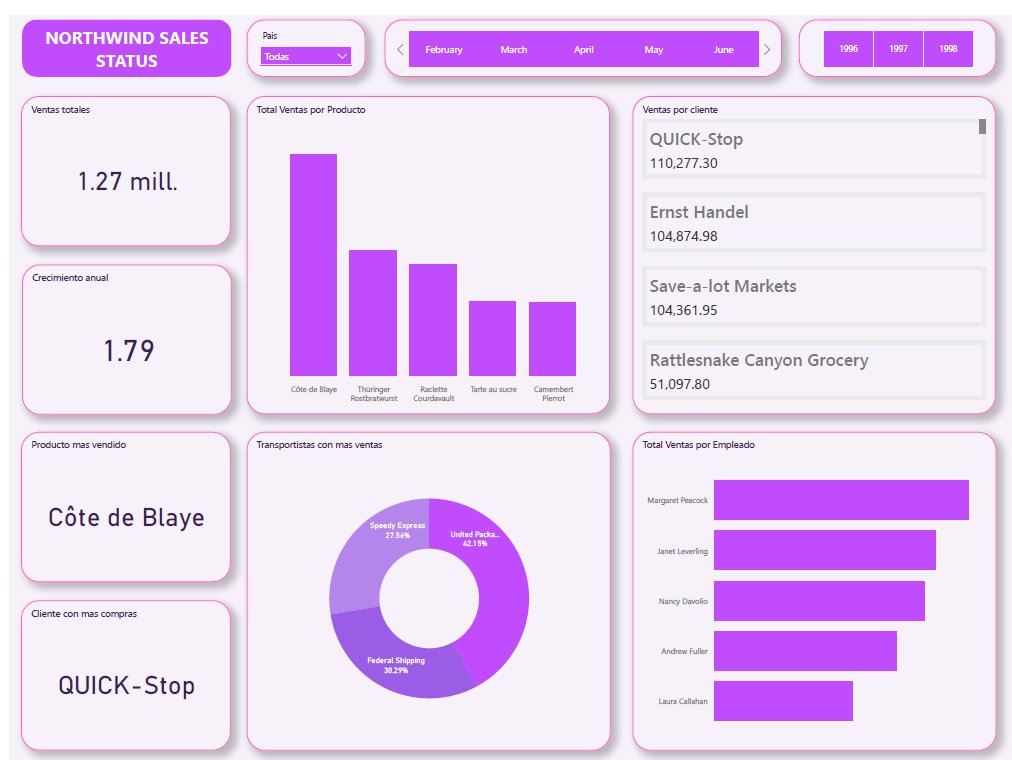

This screenshot's page, from the dashboard's own definition file:
{"tool":"powerbi","page":{"name":"Página 1","canvas":[1400,1499],"ordinal":0},"visuals":[{"type":"shape","box":[17.1,5.7,292.9,80],"z":7000},{"type":"card","title":"Ventas totales","fields":{"Values":["FactVentas.Total Ventas"]},"box":[15,113.3,293.3,210],"z":8000},{"type":"card","title":"Crecimiento anual","fields":{"Values":["FactVentas.YoY Growth"]},"box":[16.7,348.3,293.3,210],"z":9000},{"type":"card","title":"Cliente con mas compras","fields":{"Values":["FactVentas.TopCliente"]},"box":[15,818.3,293.3,210],"z":10000},{"type":"card","title":"Producto mas vendido","fields":{"Values":["FactVentas.TopProducto"]},"box":[15,583.3,293.3,210],"z":11000},{"type":"lineChart","title":"Ventas por Mes","fields":{"Y":["FactVentas.Total Ventas"],"Category":["DimTiempo.MesNombre"]},"box":[16.7,1048.3,1363.3,286.7],"z":12000},{"type":"clusteredColumnChart","fields":{"Category":["DimProducto.Producto"],"Y":["FactVentas.Total Ventas"]},"box":[331.7,113.3,508.3,445],"z":13000},{"type":"multiRowCard","title":"Ventas por cliente","fields":{"Values":["DimCliente.Cliente","FactVentas.Total Ventas"]},"box":[871.7,113.3,508,445],"z":14000},{"type":"barChart","fields":{"Category":["DimEmpleado.Empleado"],"Y":["FactVentas.Total Ventas"]},"box":[871.4,582.9,508.6,445.7],"z":15000},{"type":"donutChart","title":"Transportistas con mas ventas","fields":{"Category":["DimShipper.Transportista"],"Y":["FactVentas.Total Ventas"]},"box":[331.4,582.9,508.6,445.7],"z":16000},{"type":"slicer","fields":{"Values":["DimTiempo.Anio"]},"box":[1104.3,5.7,275.7,80],"z":17000},{"type":"slicer","fields":{"Values":["DimTiempo.MesNombre"]},"box":[524.3,5.7,555.7,80],"z":18000},{"type":"slicer","fields":{"Values":["DimCliente.Pais"]},"box":[331.4,5.7,165.7,80],"z":20000}]}

Visuals, with their boxes on the page's 1400x1499 design canvas (x1, y1, x2, y2). These are canvas units, not pixel positions in the 1012x760 screenshot, which may show the page scaled, cropped or inside an application window:
shape: Rect(17, 6, 310, 86)
"Ventas totales" card: Rect(15, 113, 308, 323)
"Crecimiento anual" card: Rect(17, 348, 310, 558)
"Cliente con mas compras" card: Rect(15, 818, 308, 1028)
"Producto mas vendido" card: Rect(15, 583, 308, 793)
"Ventas por Mes" lineChart: Rect(17, 1048, 1380, 1335)
clusteredColumnChart - DimProducto.Producto x FactVentas.Total Ventas: Rect(332, 113, 840, 558)
"Ventas por cliente" multiRowCard: Rect(872, 113, 1380, 558)
barChart - DimEmpleado.Empleado x FactVentas.Total Ventas: Rect(871, 583, 1380, 1029)
"Transportistas con mas ventas" donutChart: Rect(331, 583, 840, 1029)
slicer - DimTiempo.Anio: Rect(1104, 6, 1380, 86)
slicer - DimTiempo.MesNombre: Rect(524, 6, 1080, 86)
slicer - DimCliente.Pais: Rect(331, 6, 497, 86)
